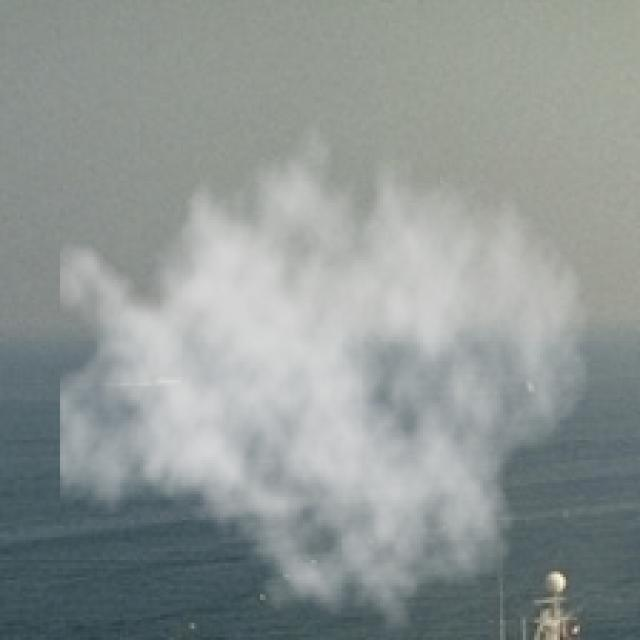smoke: (60, 97, 591, 634)
